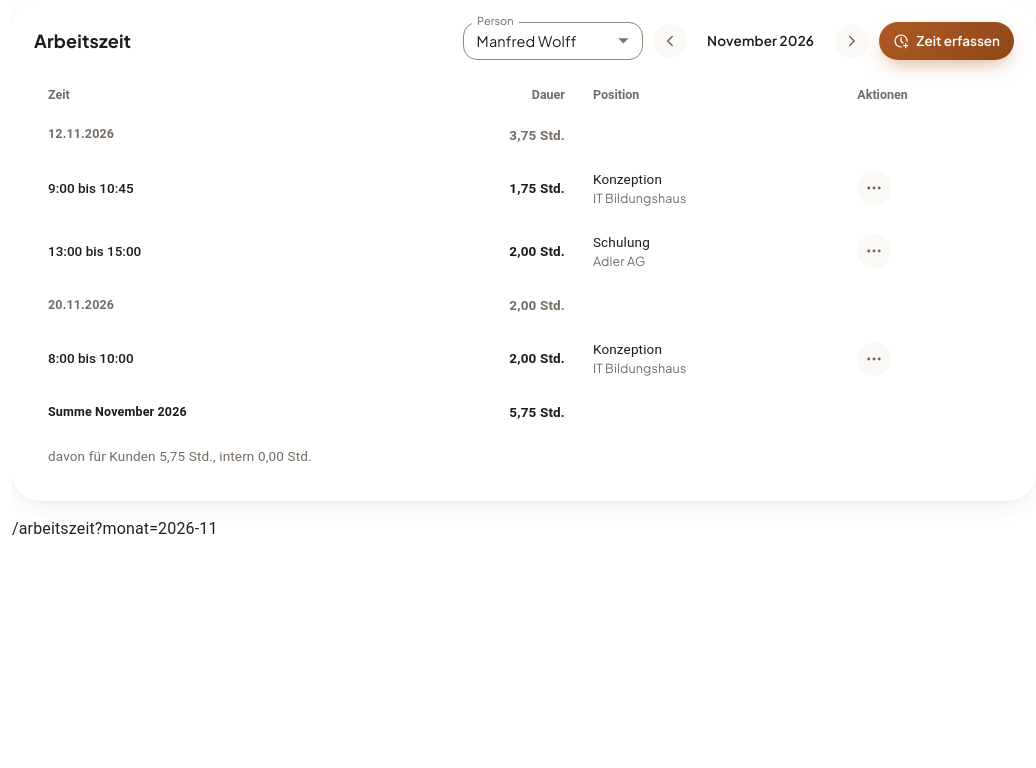
ArbeitszeitPage (Kriterium 5, Plan A13, A20) › laedt den Vormonat und schreibt ihn in die Adresse
Click the button named "Vorheriger Monat" at (670, 41), box [653, 24, 687, 58]
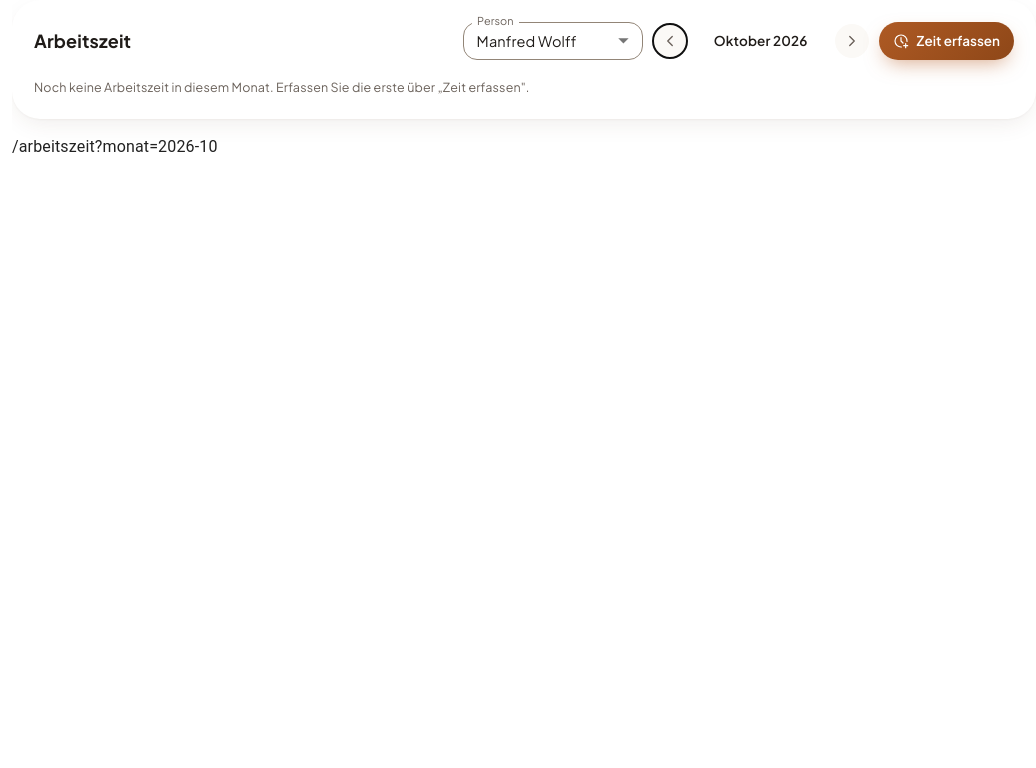
Result: the text with test id "adresse" reads "/arbeitszeit?monat=2026-10" at [12, 137, 218, 156]
